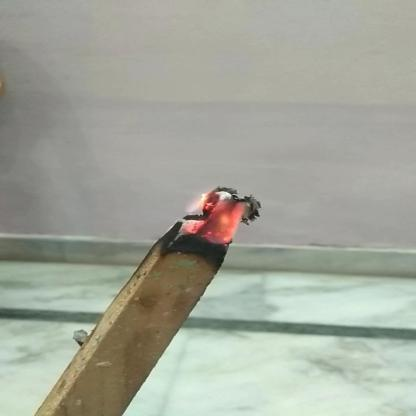fire: (180, 180, 252, 246)
